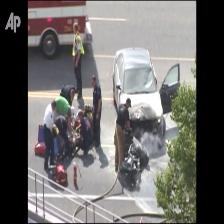smoke: (139, 129, 164, 156)
